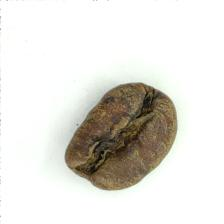NG: (72, 83, 166, 179)
